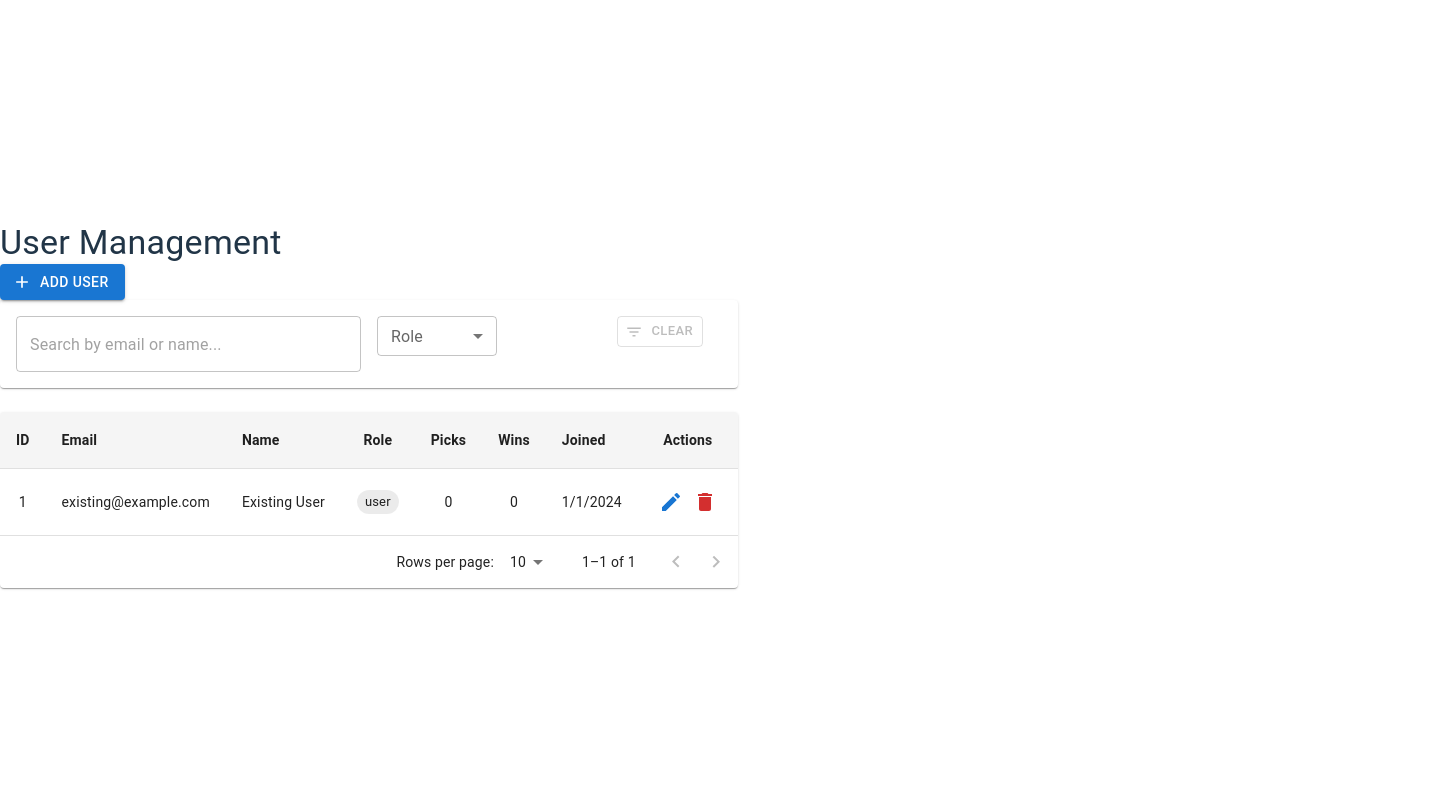
Test: AdminUsersPage (Integration) › should create a new user
expect the table is shown: met, box 0,412 -> 738,536
expect the text "existing@example.com" is shown: met, box 46,469 -> 226,536
Note: Click the Add User button
Click the button "Add User".
click(62, 282)  # box 0,264 -> 124,300
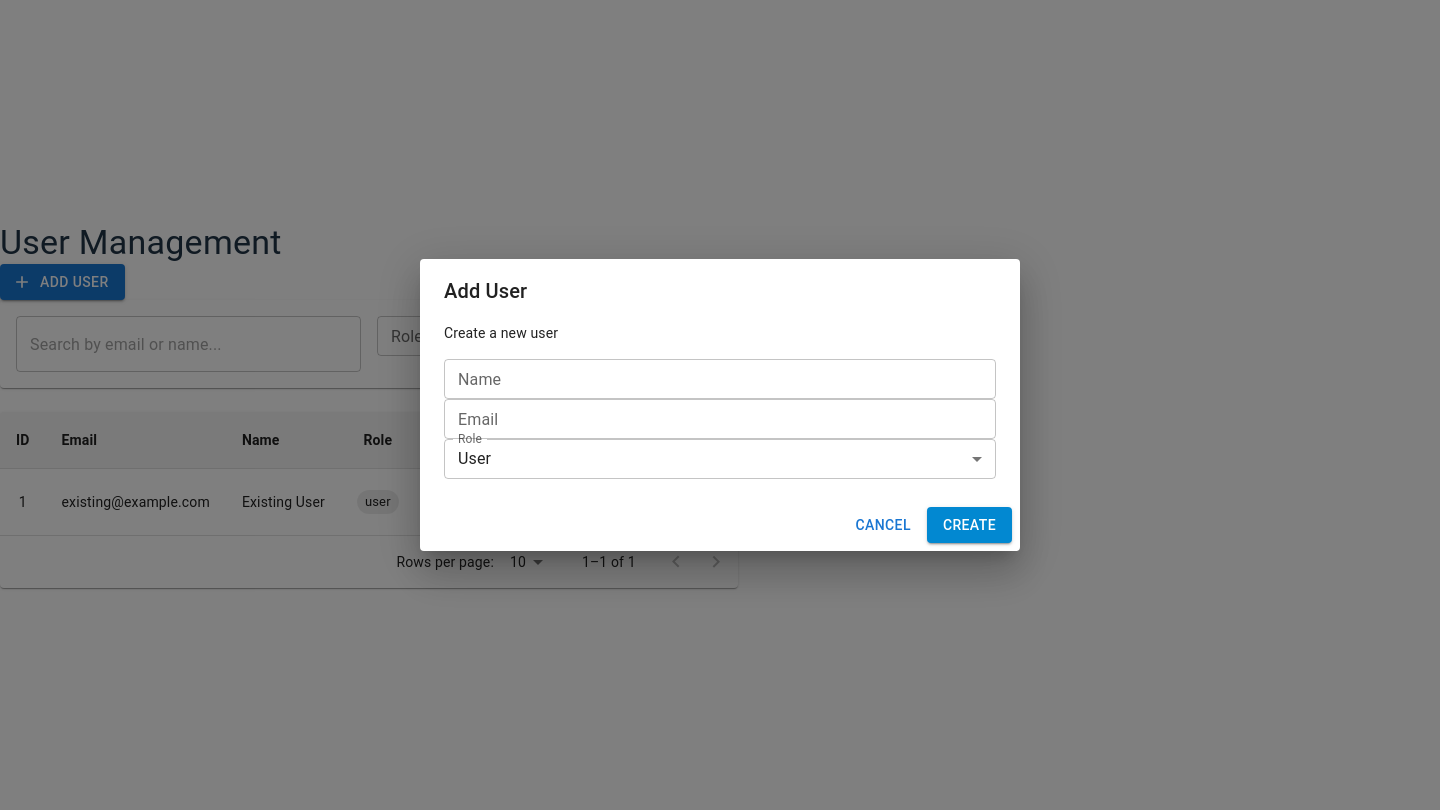
expect the heading "Add User" is shown: met, box 444,279 -> 527,303
Type "New User" into the field labelled "Name".
click(720, 379); type("New User")  # box 444,359 -> 996,399
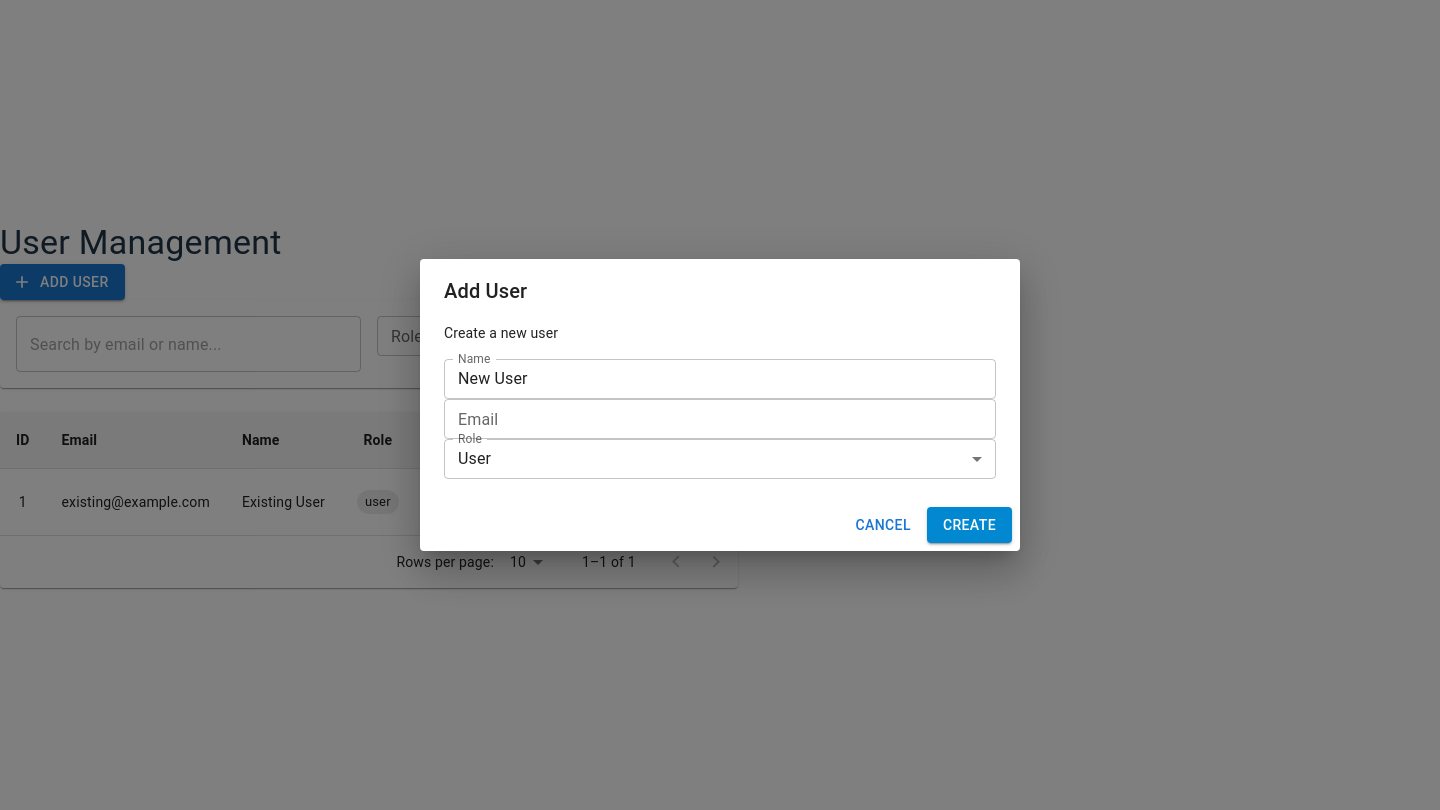
Type "newuser@example.com" into the field labelled "Email".
click(720, 419); type("newuser@example.com")  # box 444,399 -> 996,439
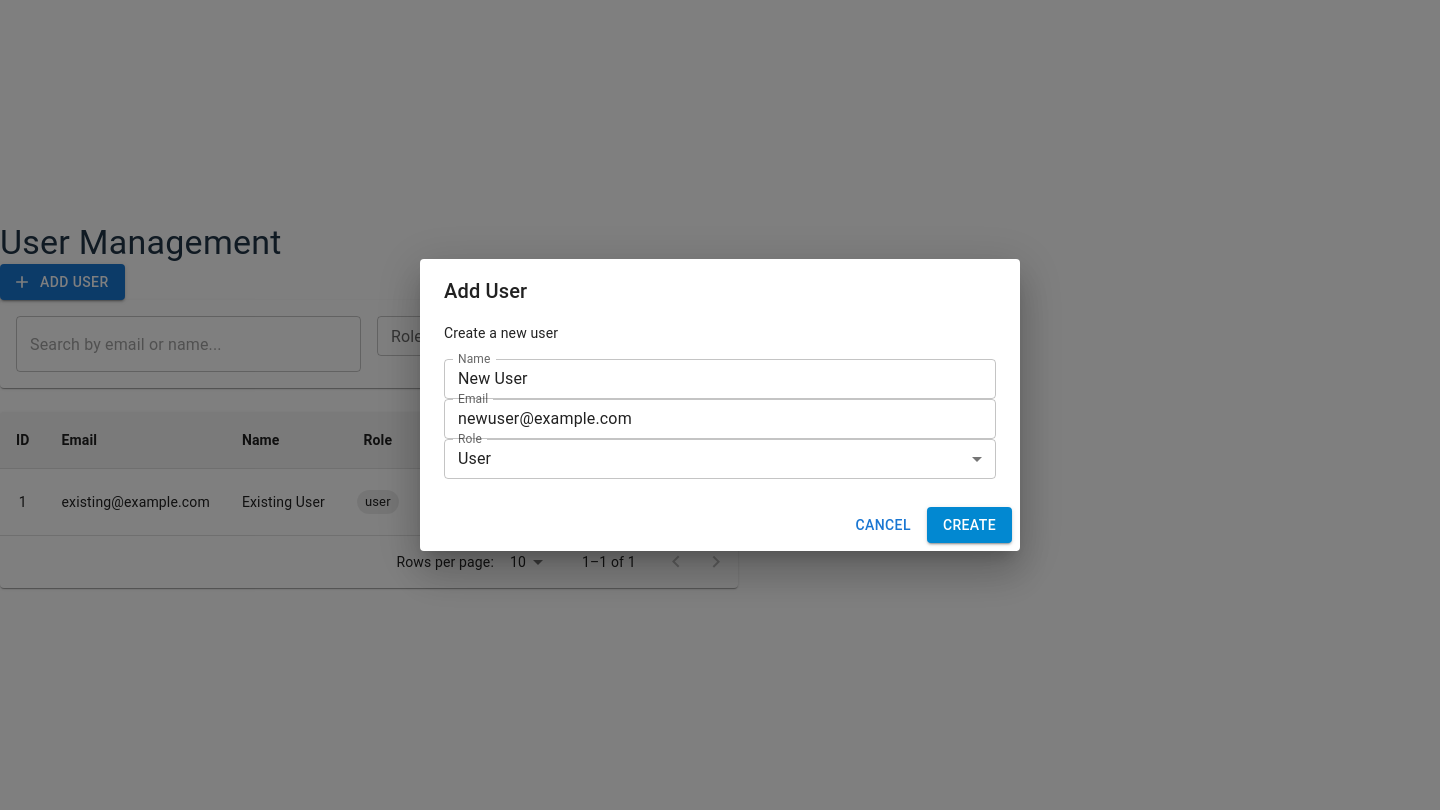
Note: Click create
Click the button "Create".
click(969, 525)  # box 927,507 -> 1012,543
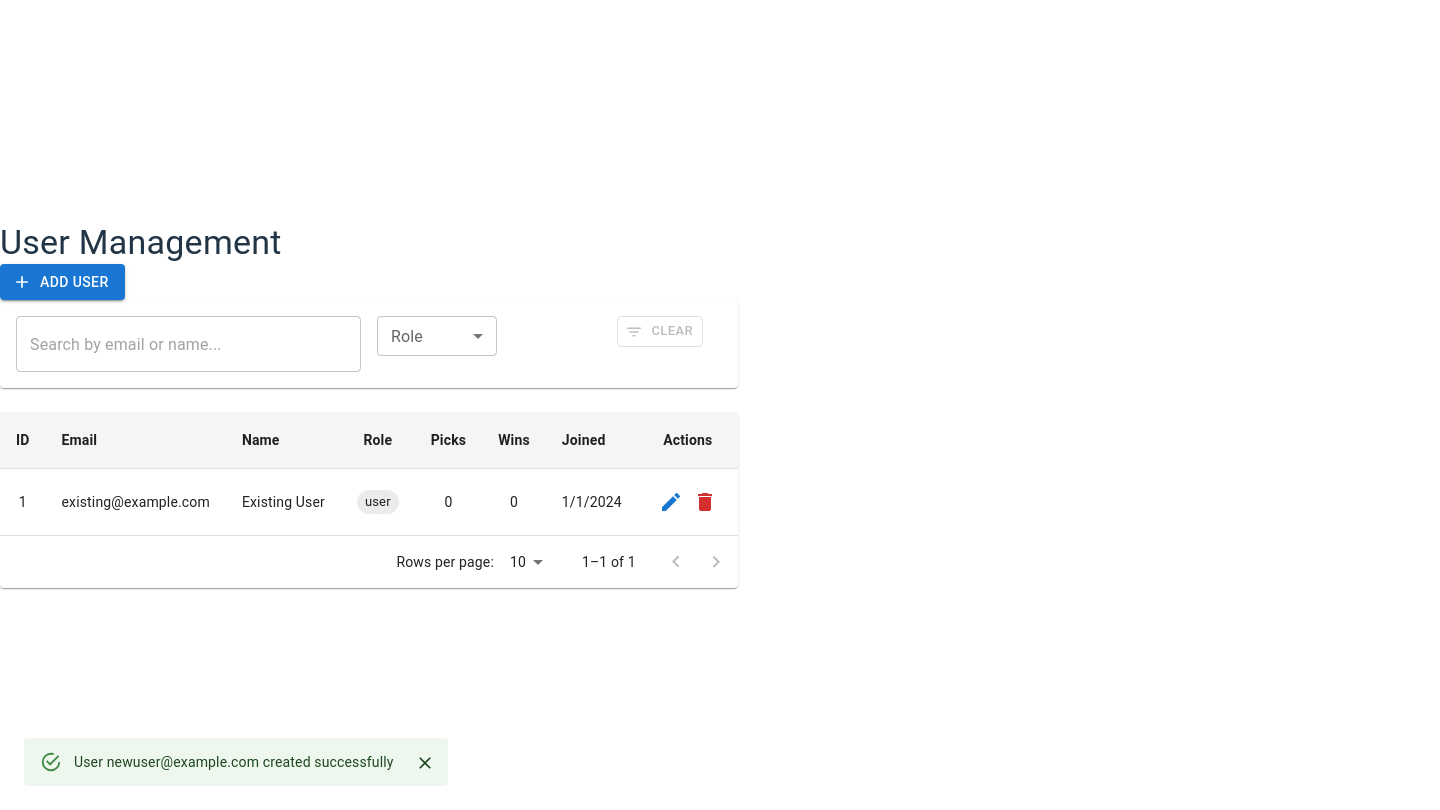
expect the text "User newuser@example.com created successfully" is shown: met, box 74,754 -> 394,770
